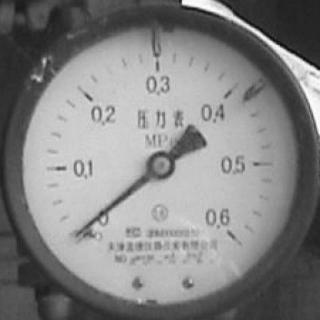gauge: (0, 0, 320, 320), (144, 150, 177, 182), (215, 216, 245, 248), (72, 221, 98, 247), (72, 226, 83, 241)
